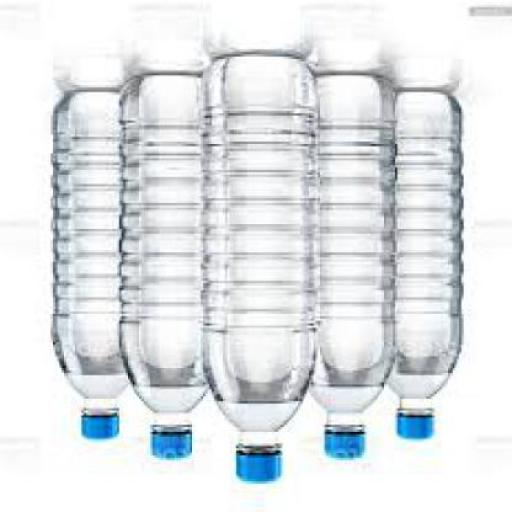plastic: (196, 54, 322, 486), (306, 78, 400, 460), (122, 76, 212, 460), (380, 96, 466, 444), (53, 92, 134, 441), (238, 448, 285, 486), (326, 427, 368, 463), (84, 413, 122, 444), (397, 415, 437, 444), (157, 434, 194, 462)
